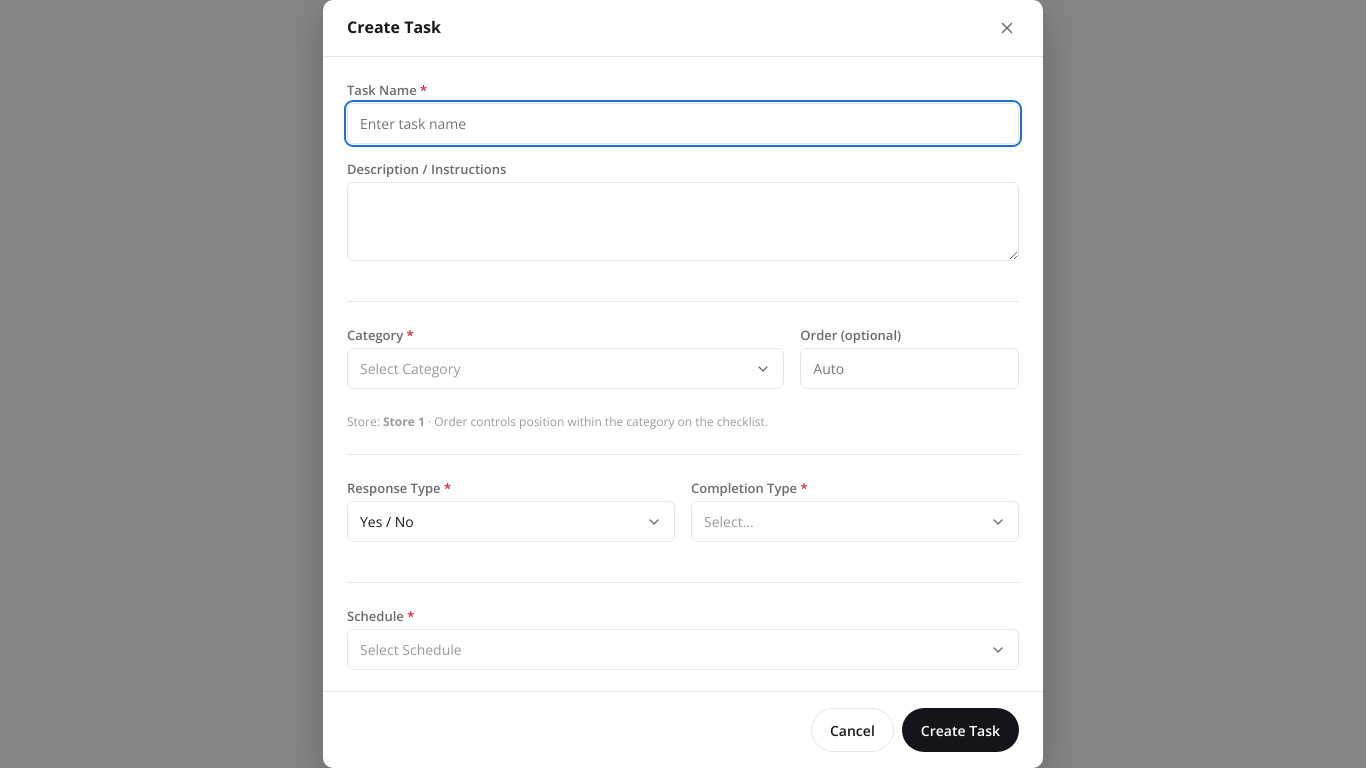
Test: TaskFormModal Short Text response › leaves the Short Text field empty and optional with no required marker
What coordinates should you click on to do the following:
click the button named "Response Type"
I would click on:
 (387, 522)
Its box is x1=347 y1=501 x2=675 y2=542.
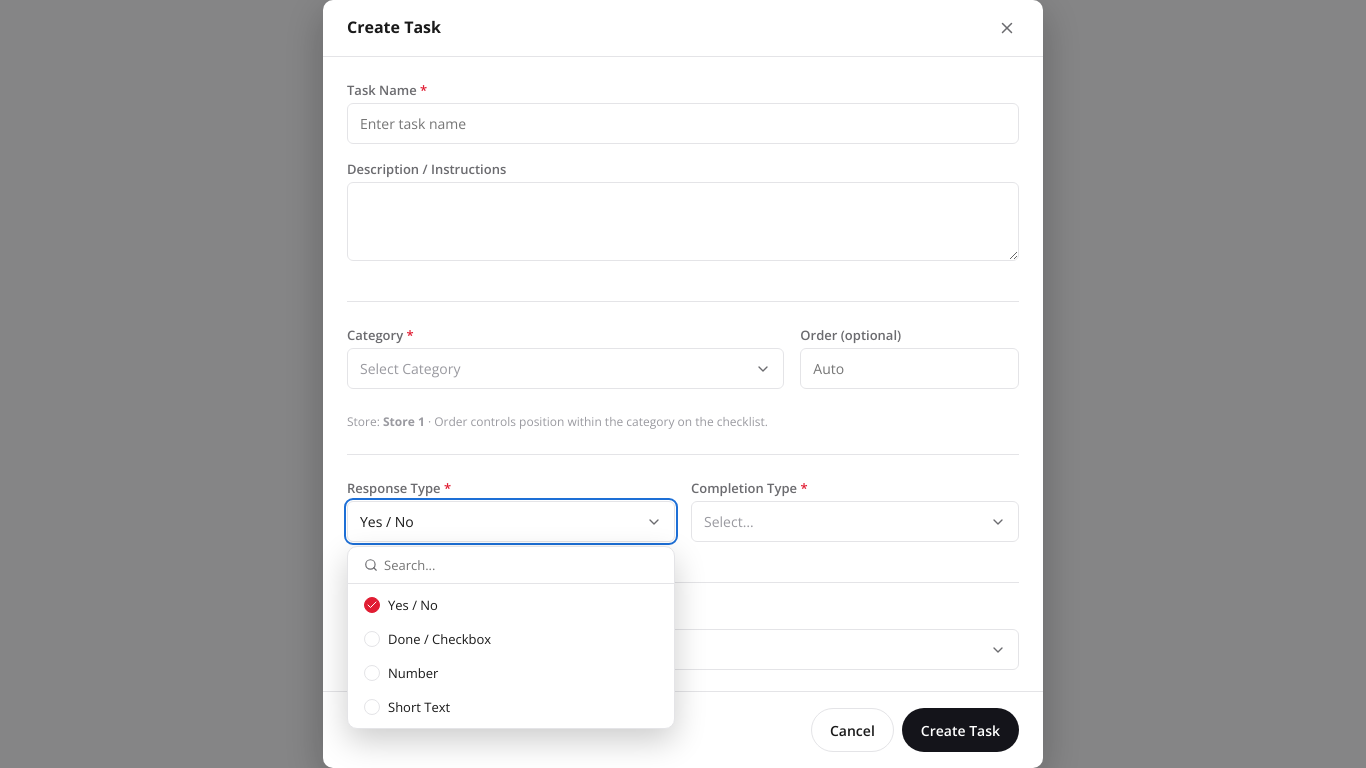
What coordinates should you click on to do the following:
click the button "Short Text"
I would click on:
 (419, 707)
Its box is x1=348 y1=690 x2=674 y2=724.
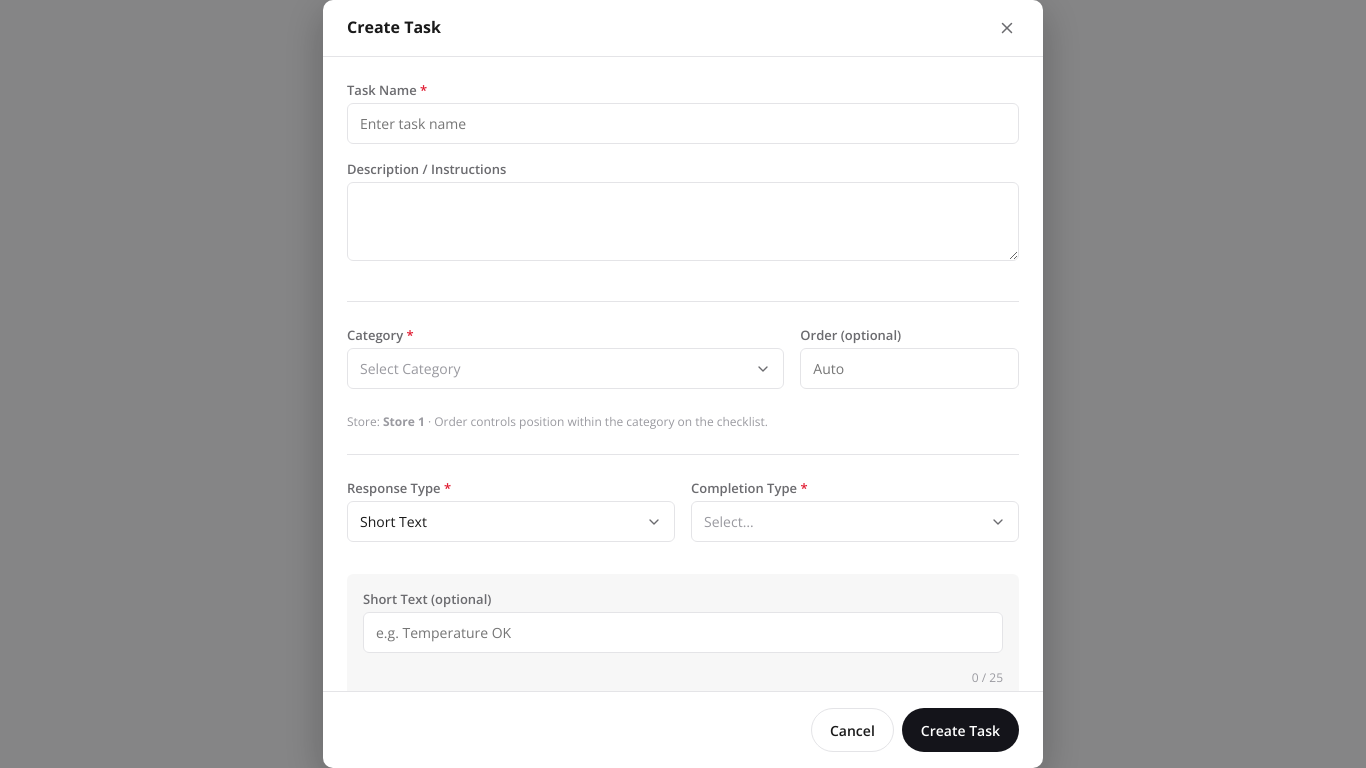
Now the field labelled "Short Text (optional)" is empty, box x1=363 y1=612 x2=1003 y2=653
Now the text "0 / 25" is shown, box x1=972 y1=669 x2=1003 y2=686
Now the text "Short Text (optional)" is shown, box x1=363 y1=590 x2=491 y2=608
